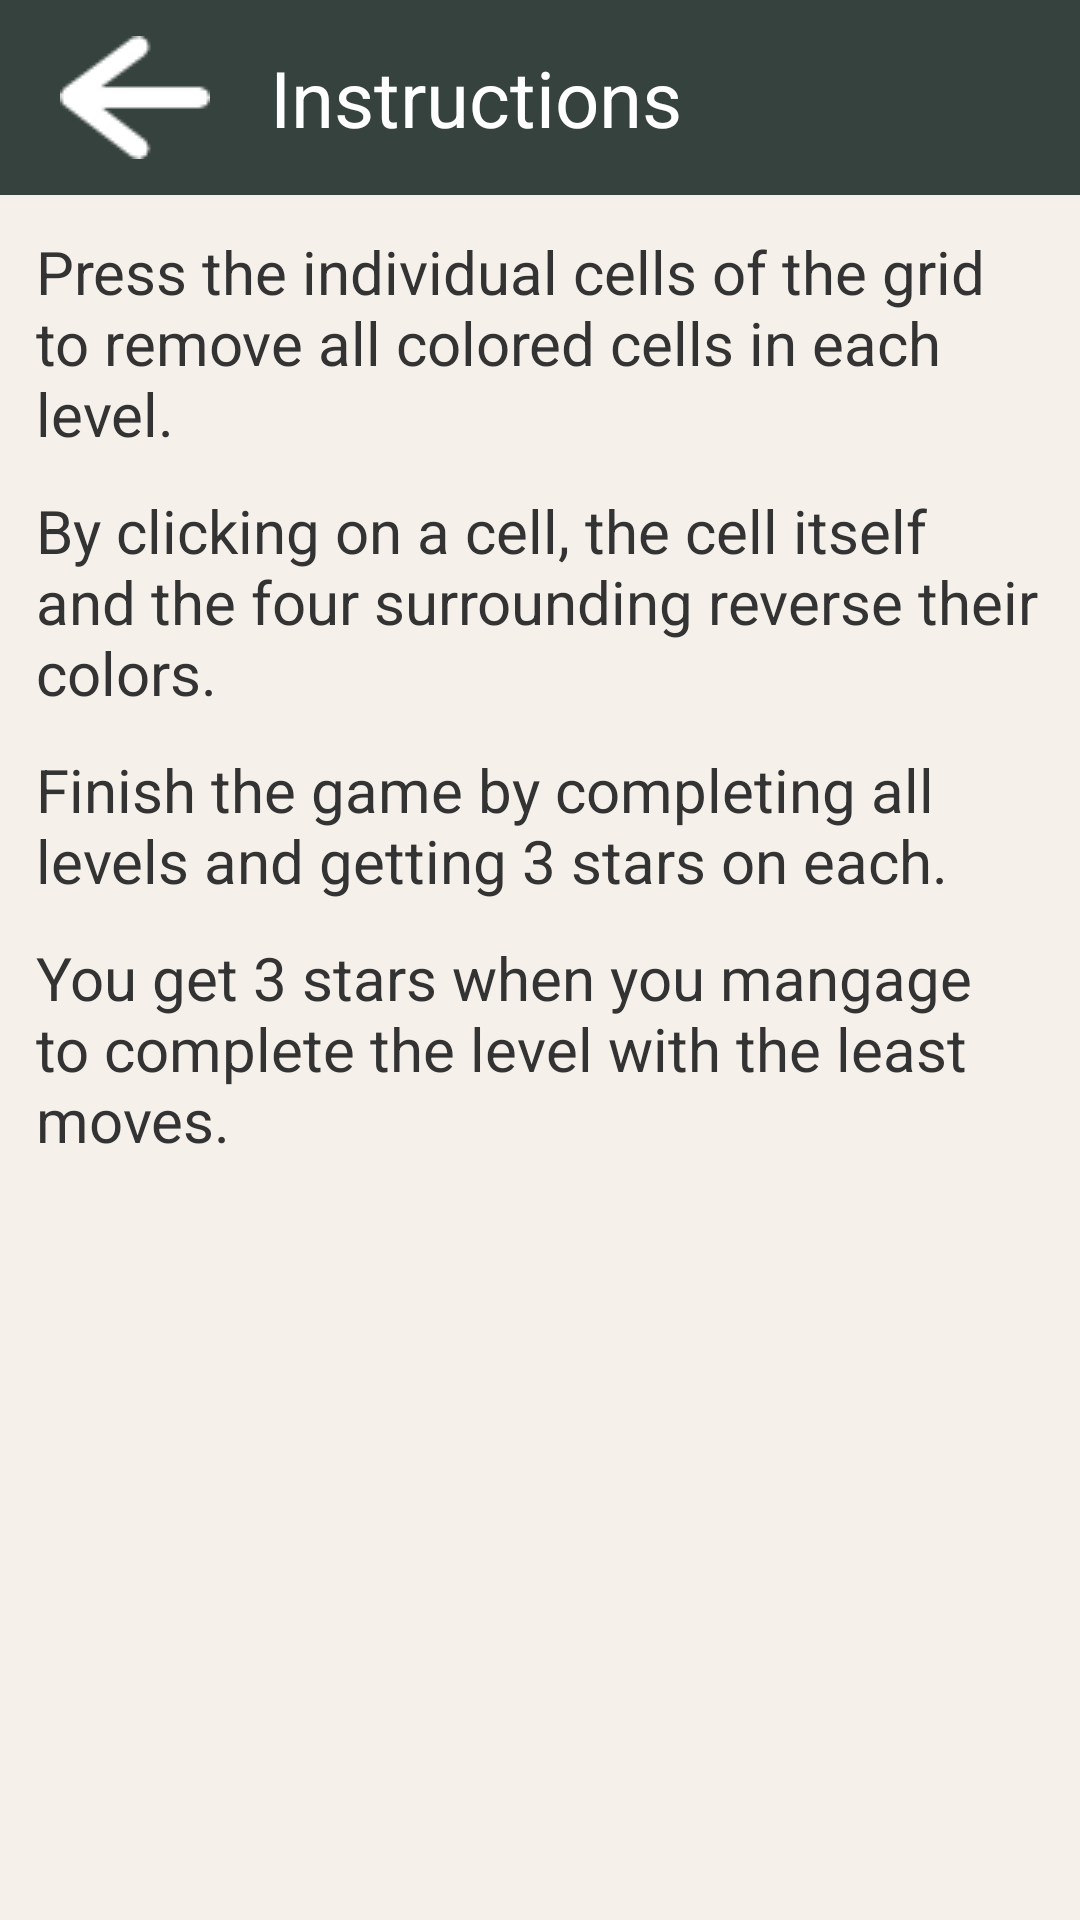

Named icons in this screenshot (1080w x 1920h) and their bounding boxes, detection(x1, y1, x2, y2):
back states: detection(60, 36, 210, 159)
